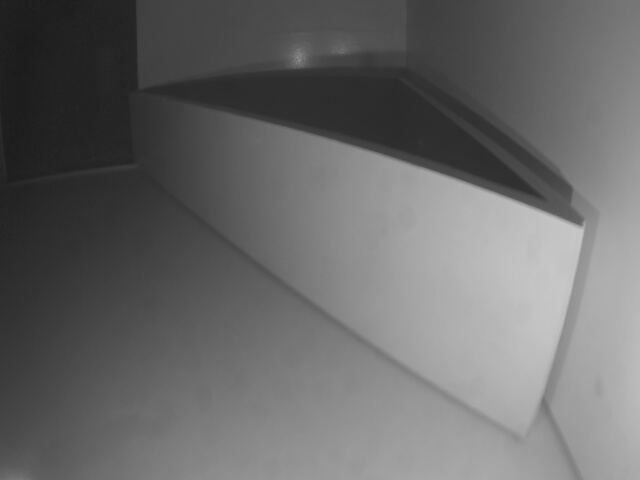Red: (128, 91, 579, 441)
